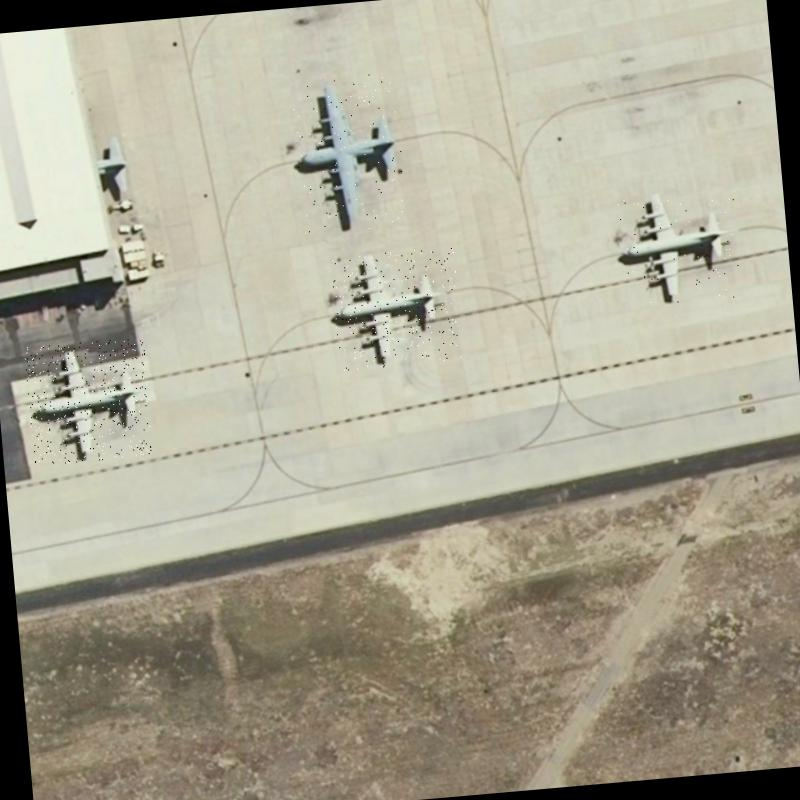A2: (290, 70, 408, 234)
A9: (328, 246, 464, 372), (24, 337, 154, 466), (613, 185, 744, 309)
